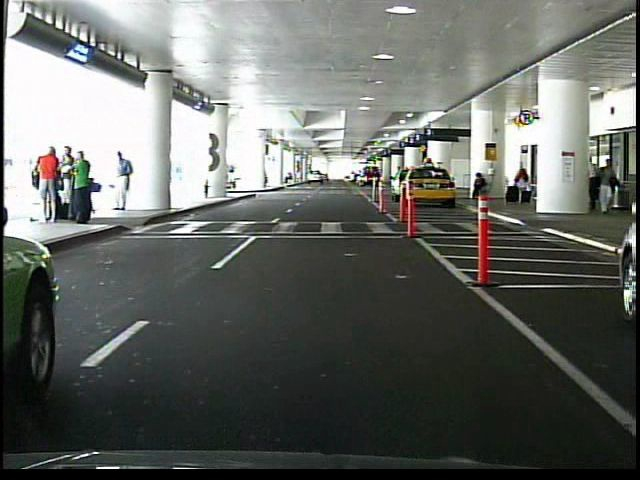person: (72, 151, 95, 227), (42, 147, 64, 222), (112, 151, 135, 215), (594, 154, 618, 214), (64, 145, 79, 212), (514, 160, 530, 205), (470, 170, 489, 200)
